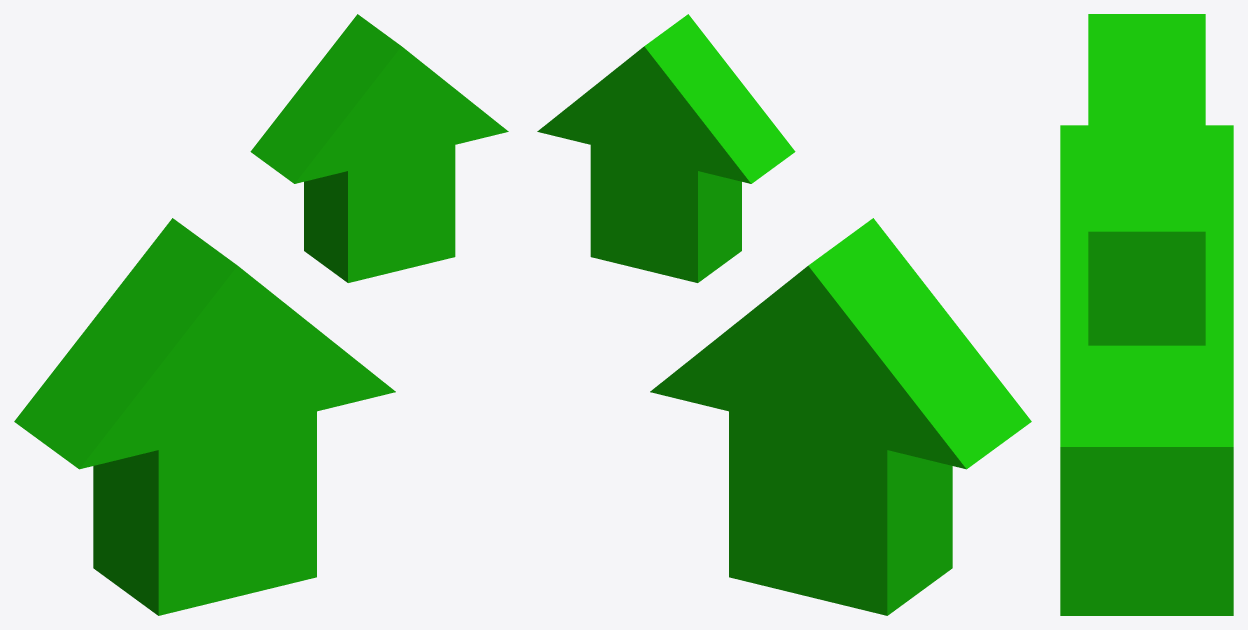
Rendered from jump.glb.
3 renders of one model, left to right at view 1: azimuth 30°, elevation 25°; view 2: azimuth 150°, elevation 25°; view 3: azimuth 270°, elevation 25°, orthographic. The views are drawn at different scales.
Parts seen in each view (by area): view 1: SpeedUp.001_Material_0, SpeedUp.001_Material_0.001; view 2: SpeedUp.001_Material_0, SpeedUp.001_Material_0.001; view 3: SpeedUp.001_Material_0.001, SpeedUp.001_Material_0.
Part boxes in pixels (x1=…): SpeedUp.001_Material_0: x1=14, y1=14, x2=508, y2=615; SpeedUp.001_Material_0.001: x1=93, y1=450, x2=158, y2=615; SpeedUp.001_Material_0: x1=537, y1=14, x2=1031, y2=615; SpeedUp.001_Material_0.001: x1=887, y1=450, x2=952, y2=615; SpeedUp.001_Material_0.001: x1=1060, y1=14, x2=1233, y2=446; SpeedUp.001_Material_0: x1=1060, y1=231, x2=1233, y2=615.
Bounding box in the file's own units: 0.8995 × 0.9764 × 0.2307.
